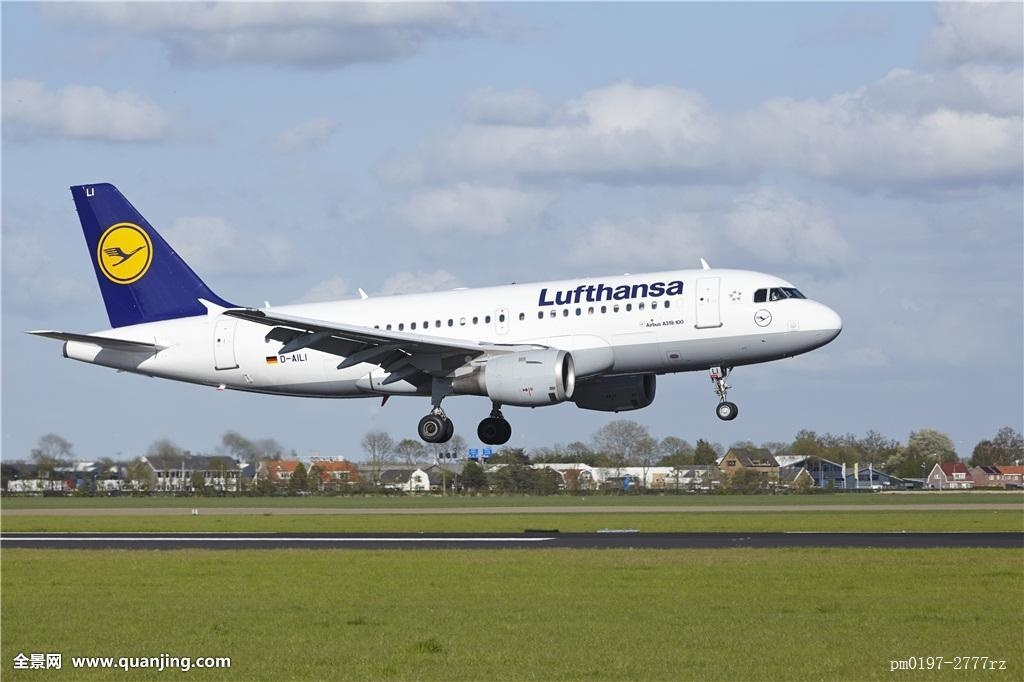airplane: (16, 173, 843, 444)
